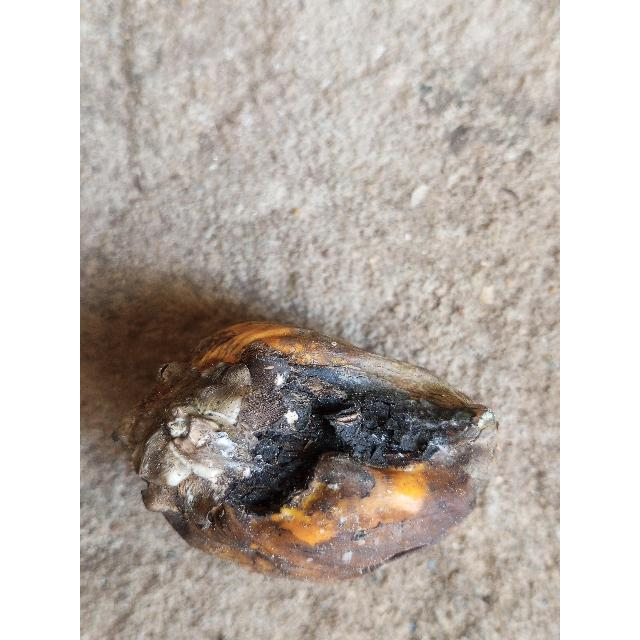damaged: (121, 320, 493, 585)
